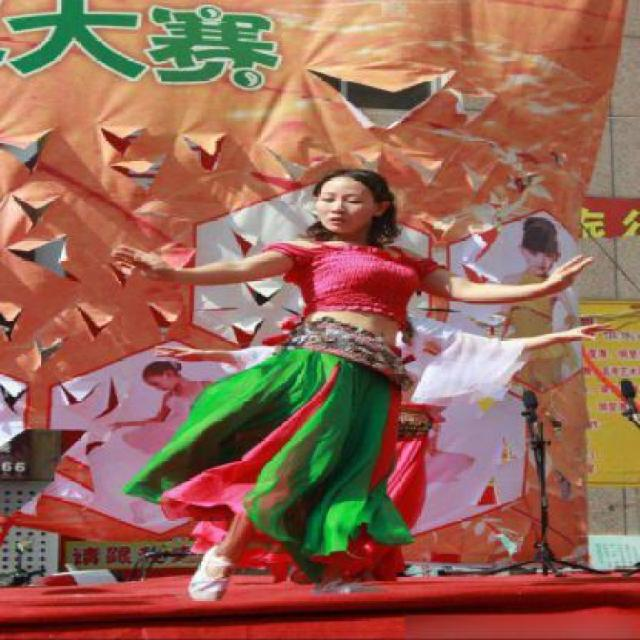Person: (156, 139, 544, 639)
